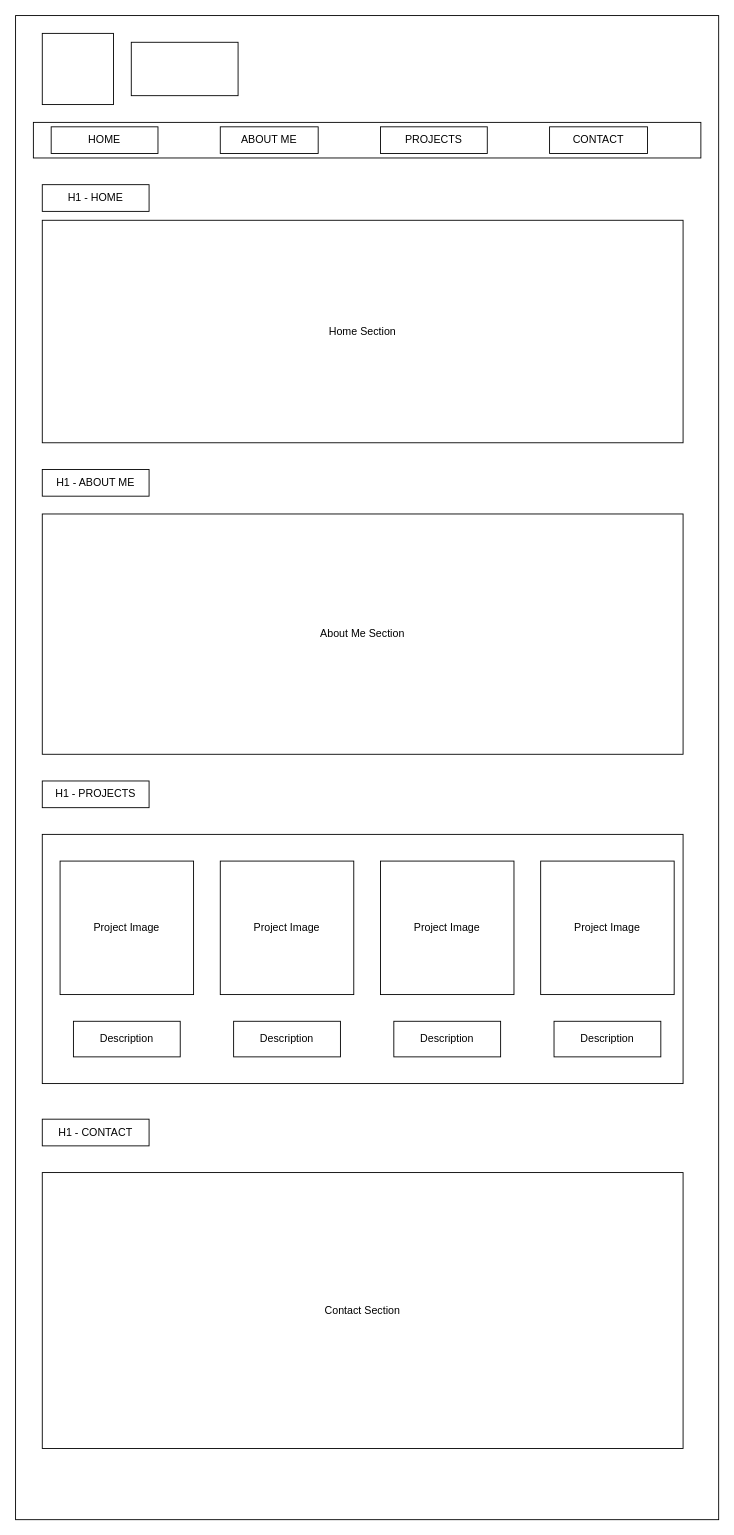
Some shapes in this 734 by 1535 pixel diagram are drawn without their labels. Each missing label, with the box of its shape:
img: (41, 32, 113, 105)
Richard's Portfolio: (130, 41, 238, 96)
